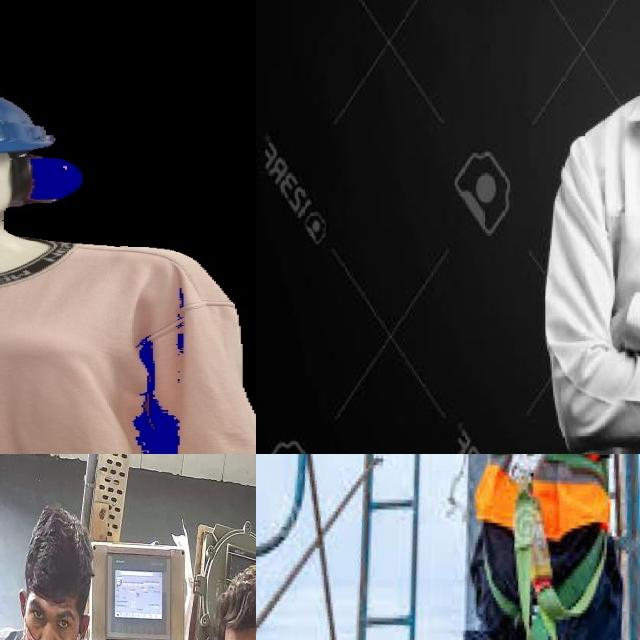Ear-protection: (0, 153, 132, 217)
Harness: (483, 454, 611, 640)
No_Glasses: (20, 592, 81, 638)
face_mask: (21, 602, 83, 640)
head_helmet: (0, 67, 89, 169)
head_nohelmet: (18, 504, 97, 606), (213, 562, 256, 640)
person: (535, 0, 640, 454), (0, 500, 132, 640), (134, 561, 256, 640)
